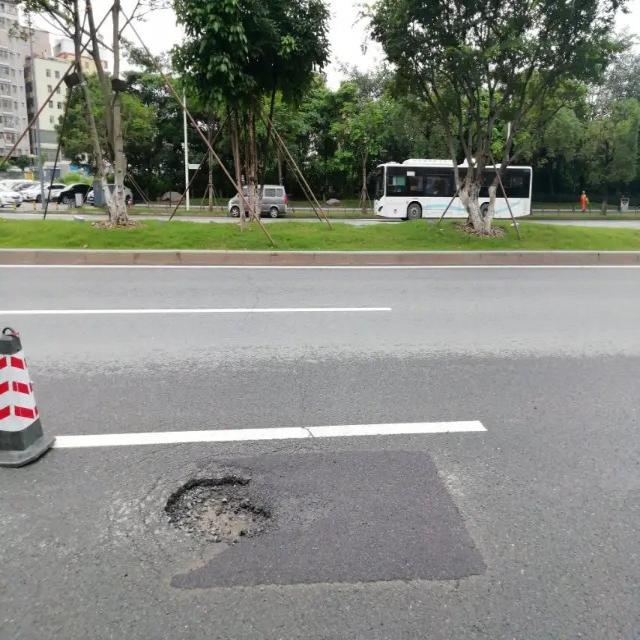Pothole: (161, 477, 266, 542)
